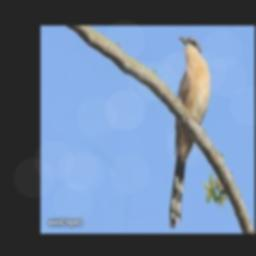Cuckoo: (169, 37, 210, 228)
